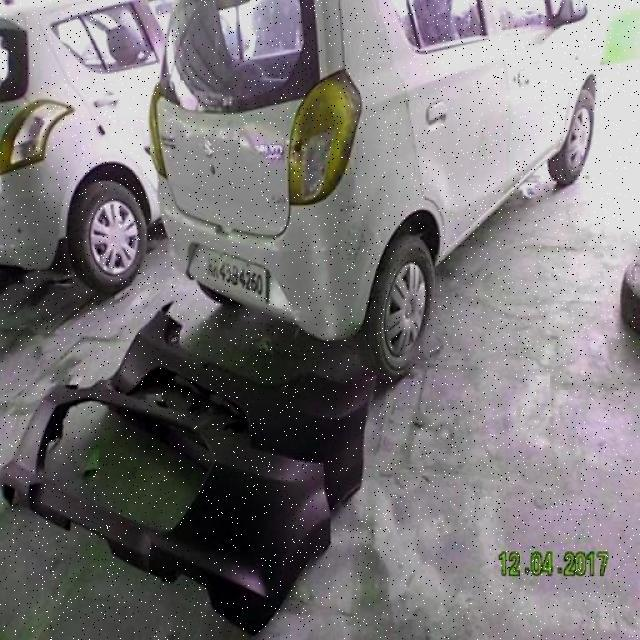car damage: (339, 218, 369, 262), (291, 135, 306, 157)
